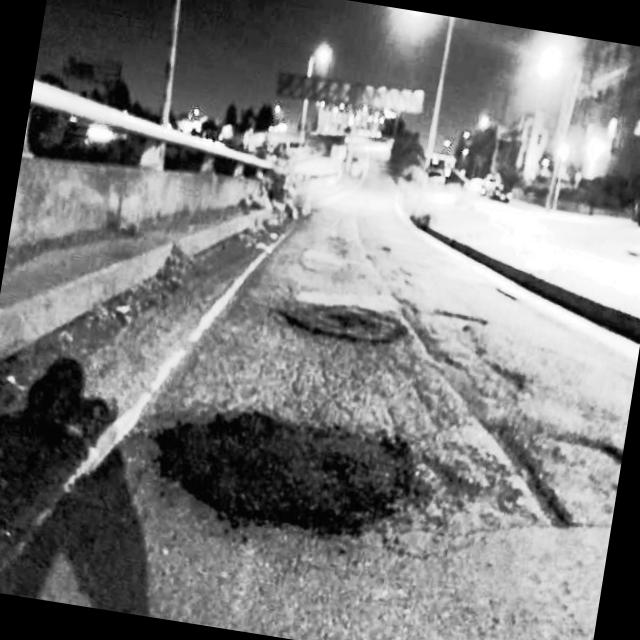Pothole: (151, 385, 414, 559), (268, 279, 407, 363), (298, 241, 348, 280)
